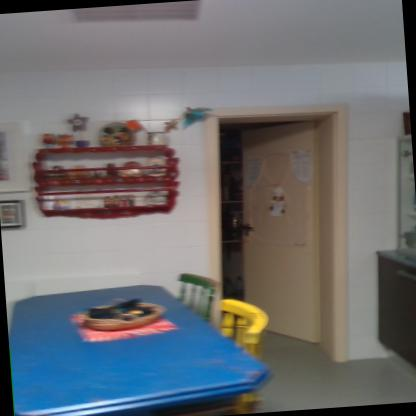semi: (186, 95, 366, 366)
